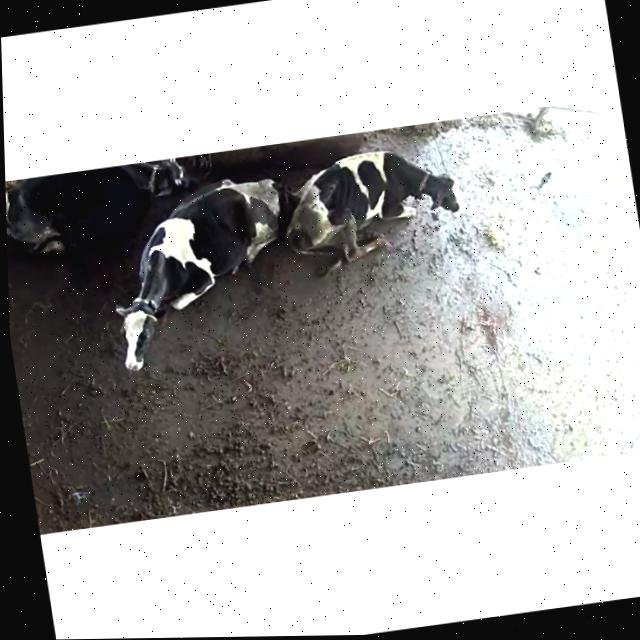lay: (77, 170, 308, 383), (278, 132, 479, 291), (5, 156, 189, 252)
